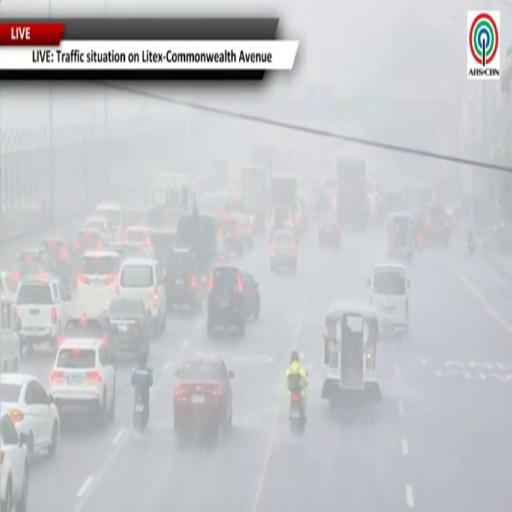car: (49, 338, 115, 423), (174, 355, 234, 440), (0, 374, 59, 457), (13, 275, 71, 354), (117, 258, 166, 333), (367, 263, 410, 332), (77, 251, 120, 316), (0, 412, 28, 511), (207, 266, 246, 335), (106, 298, 150, 355), (165, 249, 203, 311), (60, 314, 112, 348), (40, 237, 74, 287), (0, 296, 20, 373), (424, 205, 451, 247), (270, 230, 297, 270), (149, 228, 176, 266), (96, 203, 124, 239), (221, 215, 244, 257), (72, 229, 106, 255), (16, 249, 44, 280), (242, 272, 260, 319), (123, 227, 153, 255), (318, 215, 341, 247), (83, 216, 112, 241), (270, 206, 294, 234), (234, 214, 253, 249), (0, 271, 19, 301), (216, 229, 230, 264), (123, 207, 148, 226), (224, 196, 244, 213)
motorcycle: (288, 375, 305, 436), (290, 392, 305, 436), (132, 392, 149, 430), (468, 235, 476, 257)
truck: (336, 157, 368, 229), (242, 165, 268, 232), (271, 175, 297, 223)
